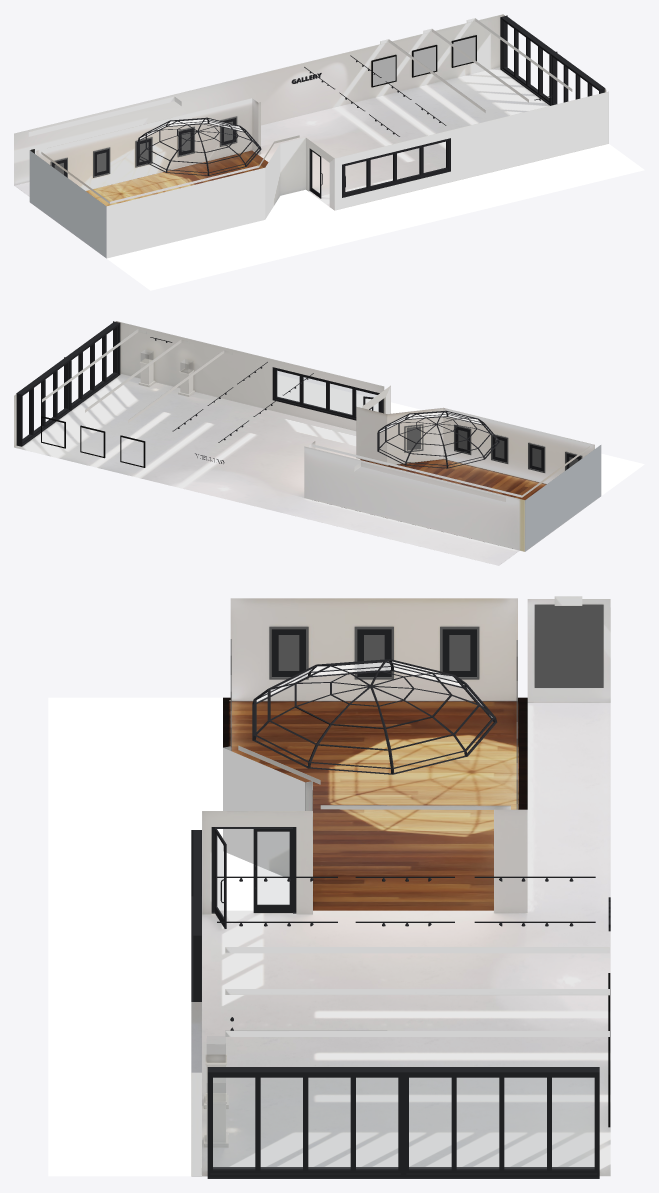
Rendered from ExportedModel.glb.
3 views of the same model, one above another, from view 1: azimuth 30°, elevation 25°; view 2: azimuth 150°, elevation 25°; view 3: azimuth 270°, elevation 25° (orthographic). The views are drawn at different scales.
Parts seen in each view (by area): view 1: SuperMeshGalleryAndyManciny; view 2: SuperMeshGalleryAndyManciny; view 3: SuperMeshGalleryAndyManciny.
Boxes of the visible parts, <box> form: SuperMeshGalleryAndyManciny: <box>14,14,644,290</box>; SuperMeshGalleryAndyManciny: <box>14,321,644,565</box>; SuperMeshGalleryAndyManciny: <box>48,596,610,1178</box>.
Bounding box in the file's own units: 62.24 × 8.29 × 30.8.
Materials: 16 (5 with a texture image).
